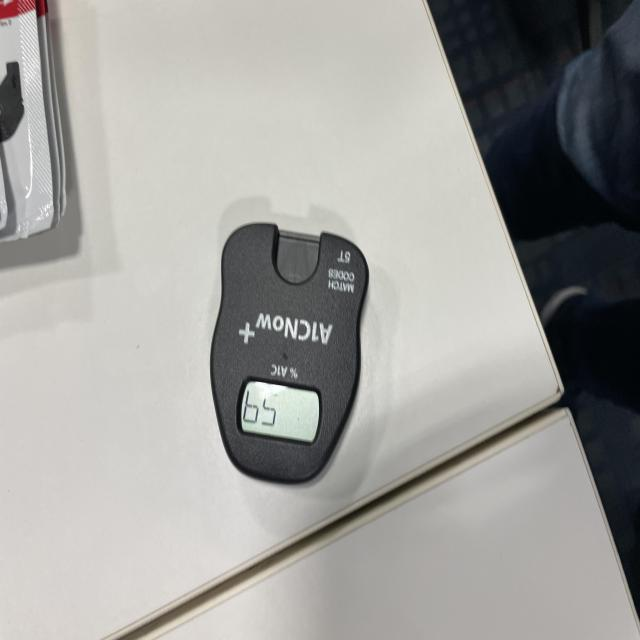hba1c: (208, 222, 370, 488)
